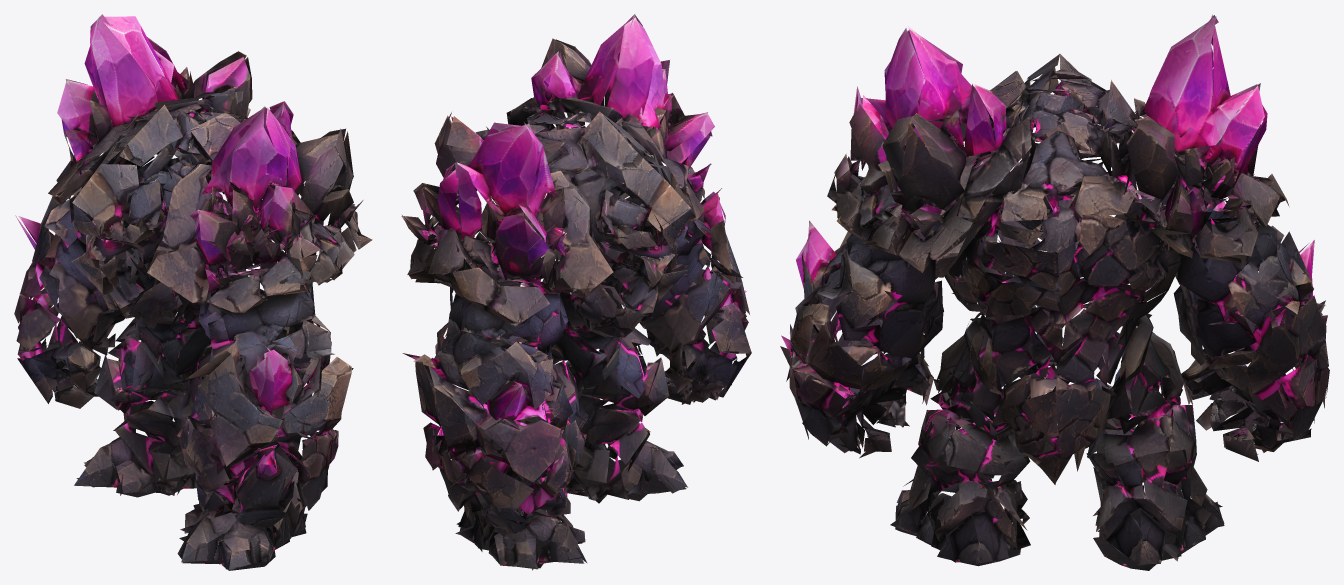
File: dizes_tank.fbx
3 views of the same model, side by side, from view 1: azimuth 30°, elevation 25°; view 2: azimuth 150°, elevation 25°; view 3: azimuth 270°, elevation 25° (orthographic). The views are drawn at different scales.
Parts seen in each view (by area): view 1: dizes_tank; view 2: dizes_tank; view 3: dizes_tank.
Part boxes in pixels (x1=…): dizes_tank: x1=14, y1=14, x2=372, y2=570; dizes_tank: x1=401, y1=14, x2=751, y2=570; dizes_tank: x1=780, y1=14, x2=1329, y2=570.
Size of the model in its own units: 0.5492 by 1 by 0.9803.
1 material, 1 textured.
